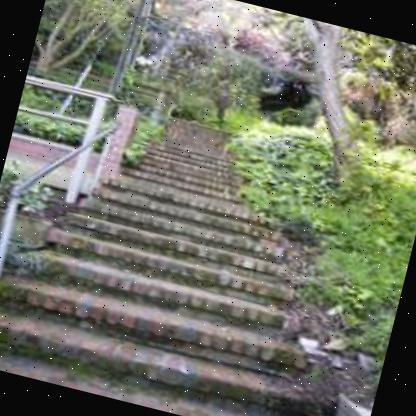stair: (46, 133, 314, 412)
